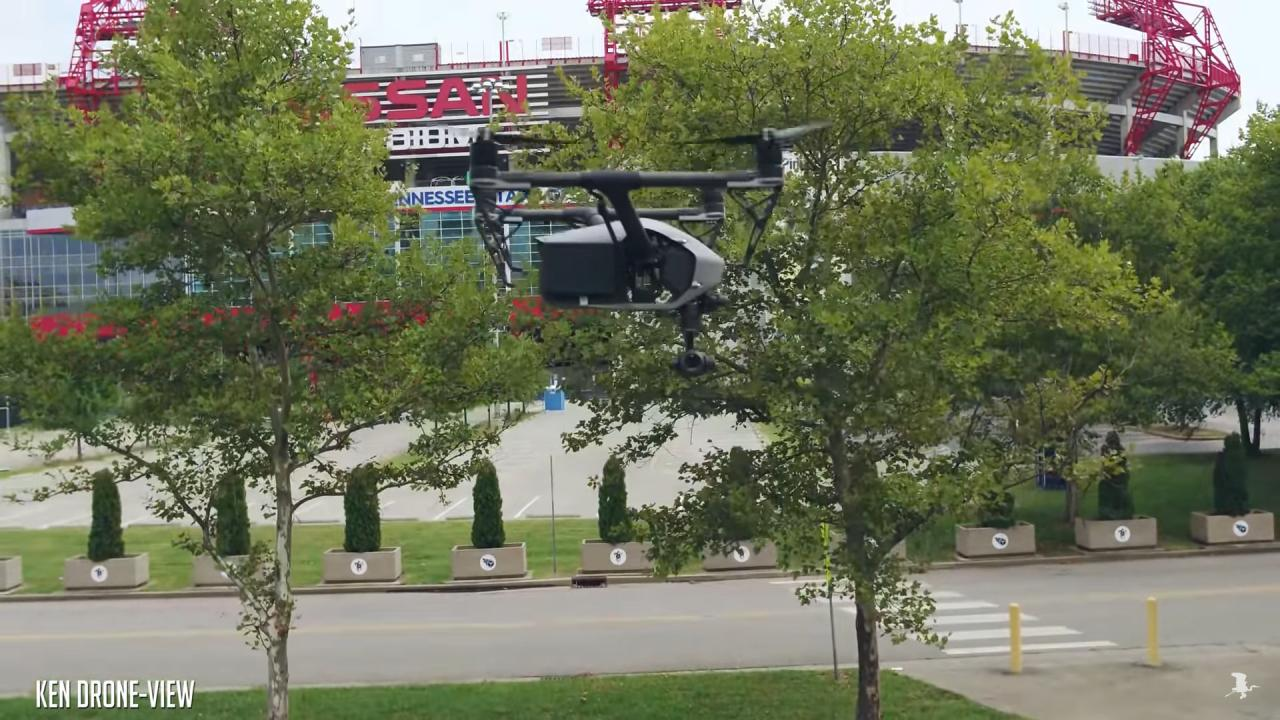Drone: (408, 100, 862, 396)
